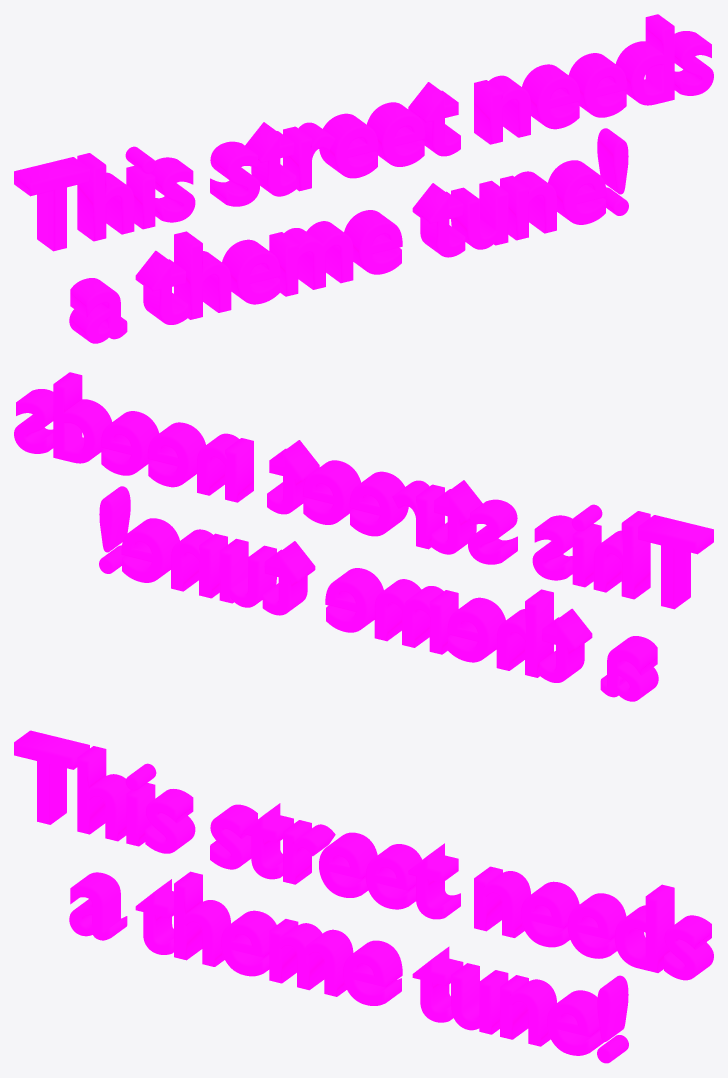
File: this_street_02.gltf
3 renders of one model, top to bottom at view 1: azimuth 30°, elevation 25°; view 2: azimuth 150°, elevation 25°; view 3: azimuth 330°, elevation 25°, orthographic.
Visible parts, largest first — view 1: Text; view 2: Text; view 3: Text.
Part boxes in pixels (x1,y1,x2,y2): Text: (14,14,713,343); Text: (14,372,713,701); Text: (14,730,713,1063).
Size of the model in its own units: 7.01 by 1.73 by 0.32.
